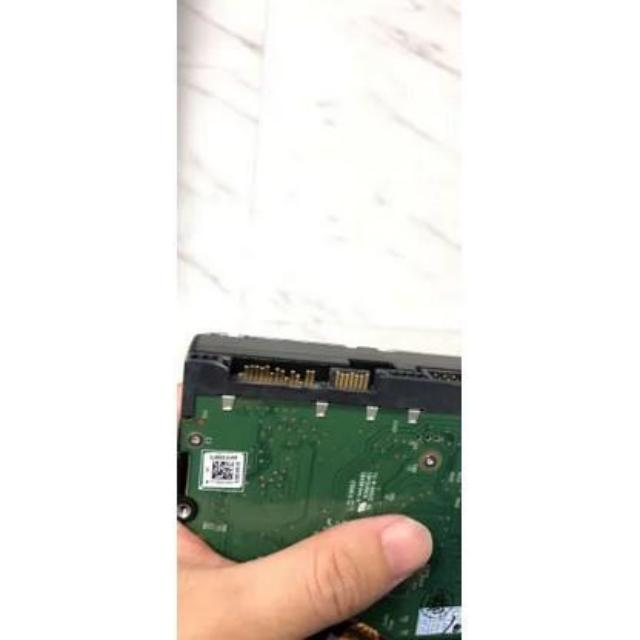DISK: (162, 328, 462, 640)
